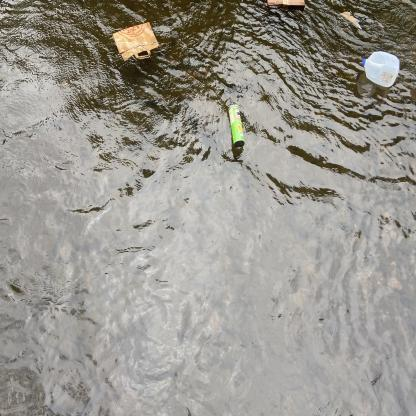trash: (113, 21, 160, 63), (362, 48, 400, 90), (227, 104, 246, 148), (266, 0, 308, 10)
